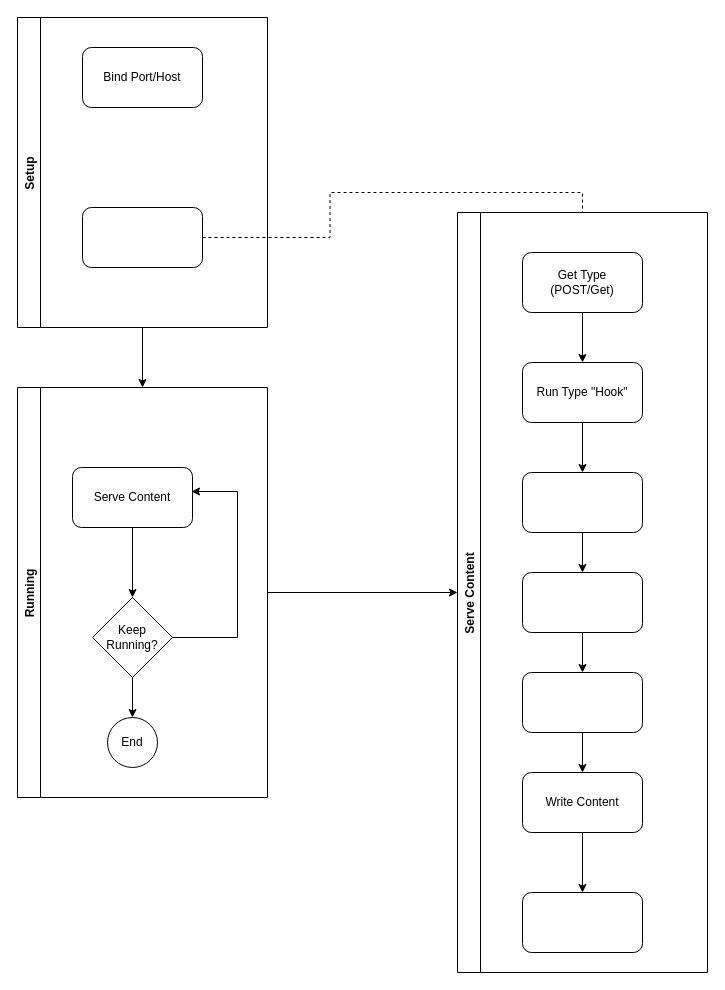
Image size: 725x990. Some labels were removed from this diagram. The shapes that lost their labels are listed below. From the top down, each one's box as (x1, y1, x2, y2) in pixels, then its label:
(82, 206, 202, 268): Setup Listeners
(522, 472, 642, 532): Match Requirements
(522, 572, 642, 632): Process Requirement
(522, 672, 642, 732): Write Header
(522, 892, 642, 952): Flush Results
